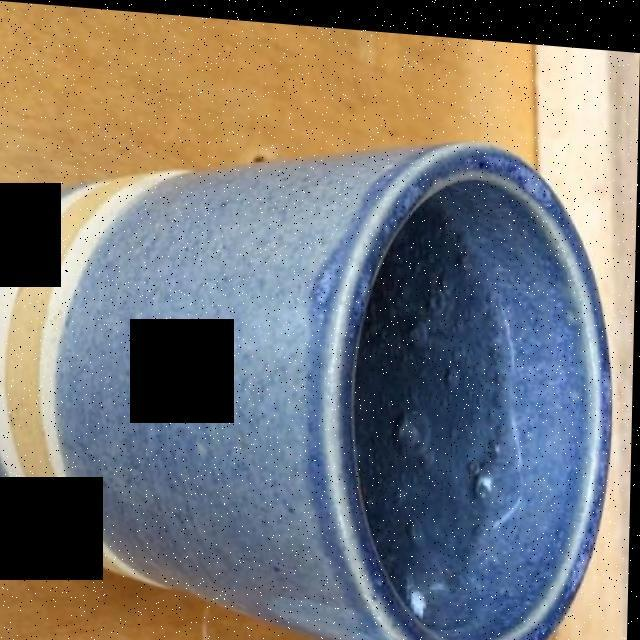water: (355, 195, 519, 597)
